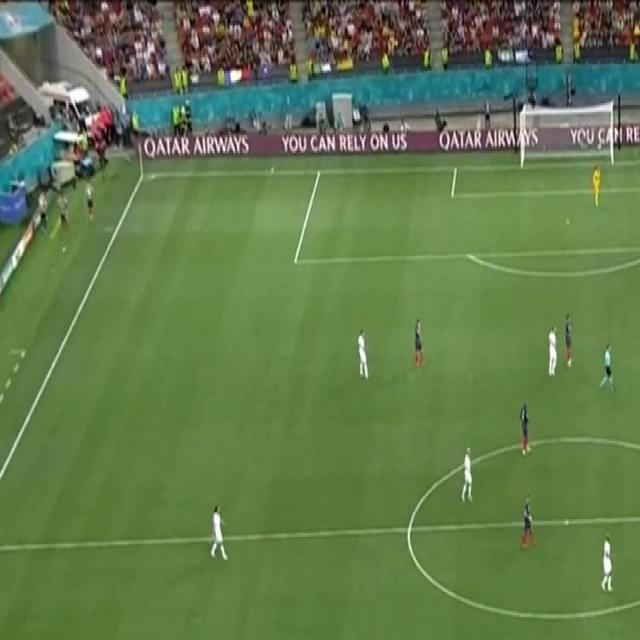ball: (60, 244, 68, 253)
player-white: (209, 504, 229, 562), (519, 492, 537, 550), (598, 343, 616, 395), (600, 530, 614, 594), (518, 399, 533, 458), (460, 445, 474, 505), (357, 328, 370, 381), (563, 313, 574, 369), (414, 317, 425, 369), (548, 324, 558, 378), (591, 164, 601, 208)
